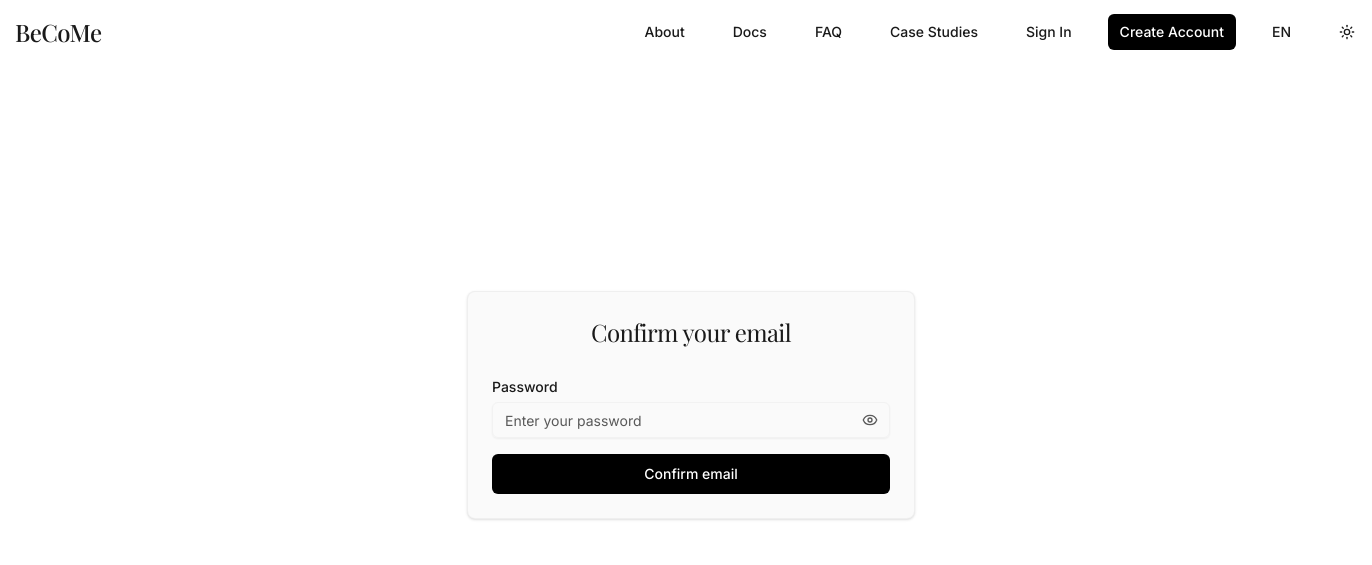
Test: VerifyEmail › lets a locked-out attempt be retried, which is what the message tells the user to do
Type "CorrectHorse123!" into the password field with placeholder "Enter your password" at (691, 420), box top-left (492, 402), bottom-right (890, 438)
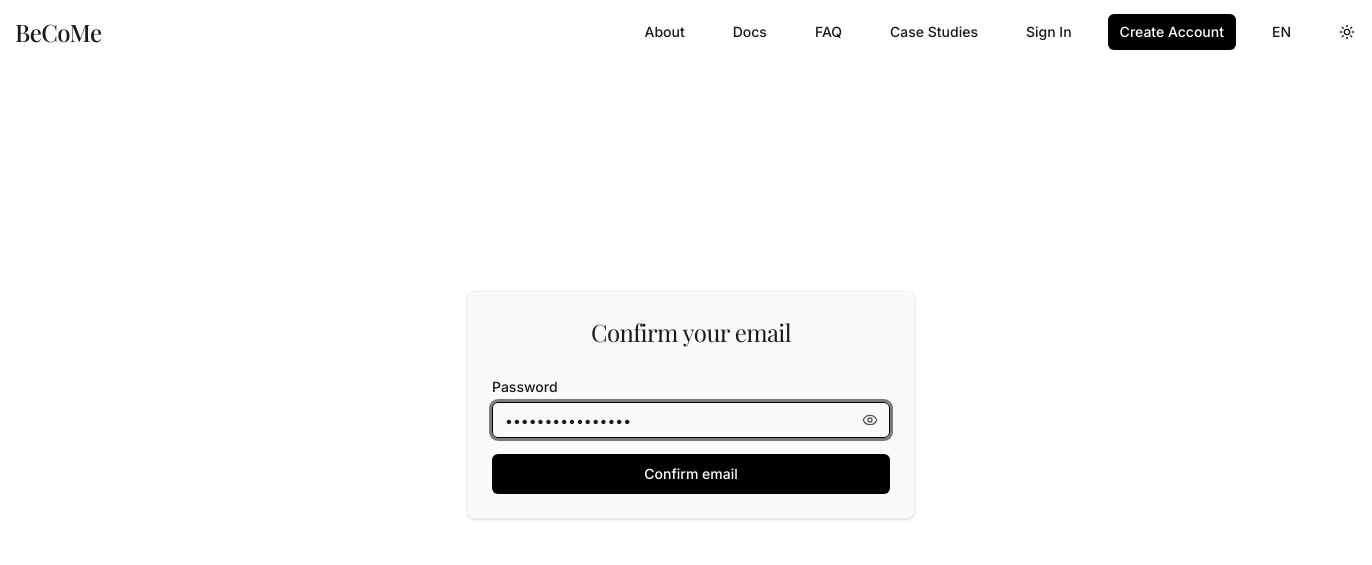
Click the button "Confirm email" at (691, 474), box top-left (492, 454), bottom-right (890, 494)
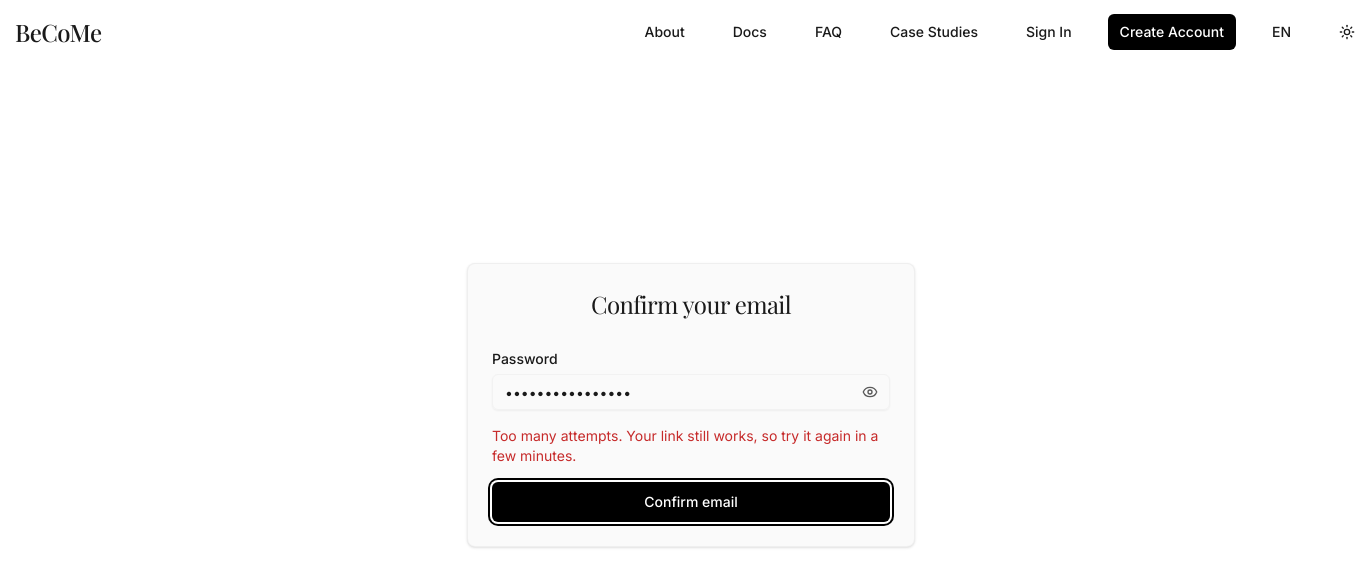
Expected: the message "Too many attempts. Your link still works, so try it again in a few minutes." is shown, top-left (492, 426), bottom-right (890, 466)
Click the button "Confirm email" at (691, 502), box top-left (492, 482), bottom-right (890, 522)
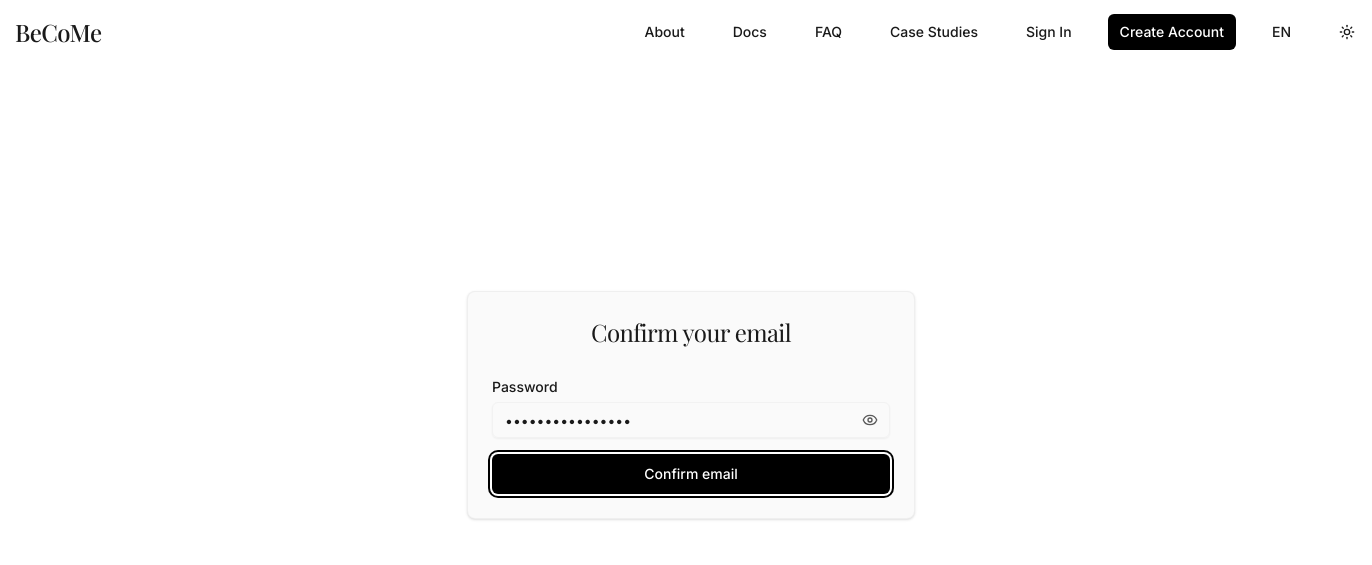
Expected: the message "Too many attempts. Your link still works, so try it again in a few minutes." is gone
